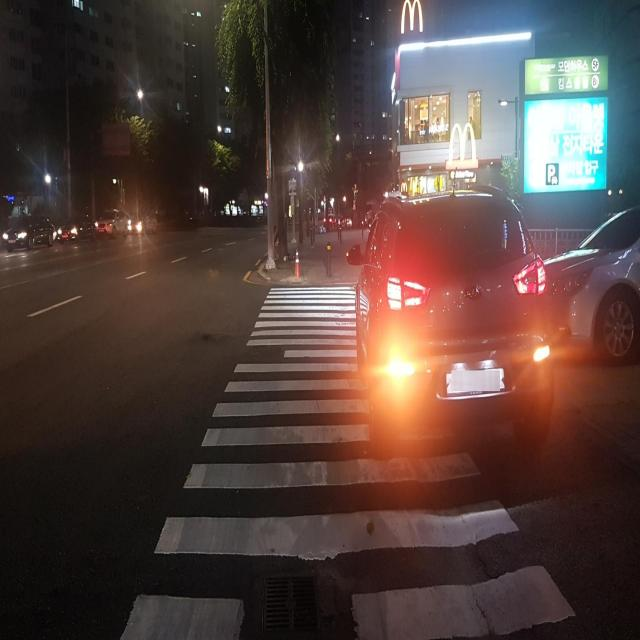횡단보도: (115, 277, 580, 640)
